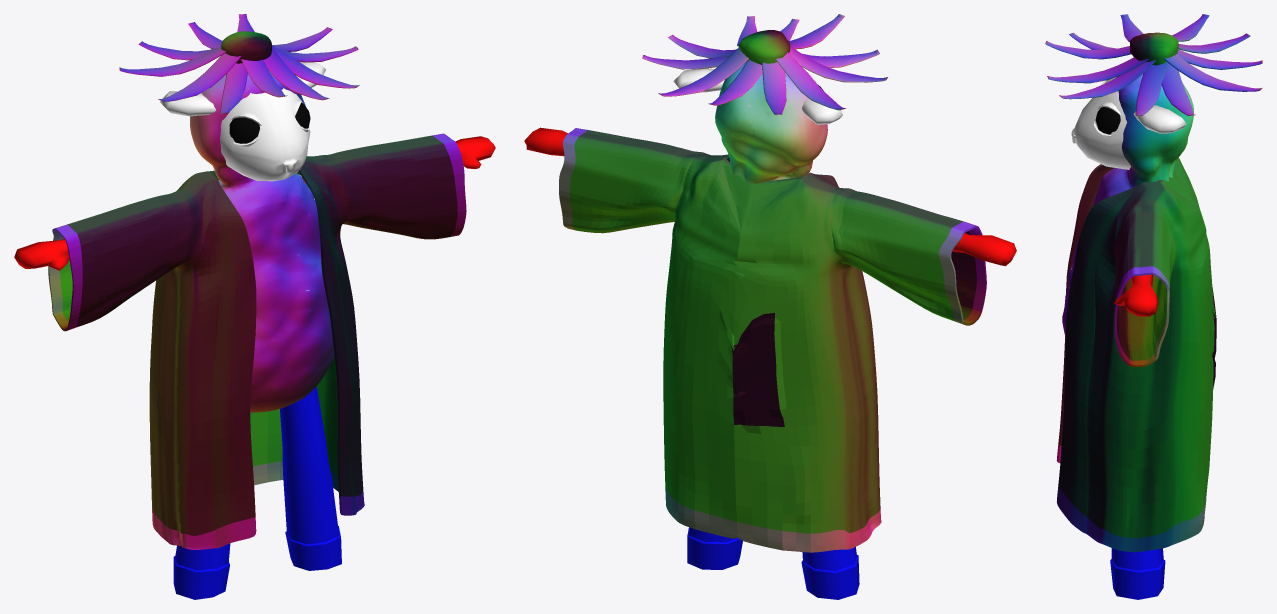
Rendered from GreenSheep (1).fbx.
The picture shows the model from 3 angles, left to right: view 1: azimuth 30°, elevation 25°; view 2: azimuth 150°, elevation 25°; view 3: azimuth 270°, elevation 25°; orthographic projection. The views are drawn at different scales.
Visible parts, largest first — view 1: robes.003, Mball.003, Arms & Legs.003, Head.003, Hat centre, Ears.003, Petal.009, Petal.002, Eyeballs.003, Petal.008, Petal, Petal.001 (+1 smaller); view 2: robes.003, Mball.003, Arms & Legs.003, Hat centre, Ears.003, Petal.008, Petal.007, Petal.006, Petal.009, Petal.005, Petal.010, Petal.003 (+1 smaller); view 3: robes.003, Mball.003, Arms & Legs.003, Head.003, Hat centre, Petal.004, Petal.007, Petal.001, Ears.003, Petal.010, Petal.002, Petal.003 (+5 smaller).
Part boxes in pixels (x1,y1,x2,y2): robes.003: (48,133,466,549); Mball.003: (190,70,334,412); Arms & Legs.003: (14,136,495,599); Head.003: (220,88,310,181); Hat centre: (221,31,271,63); Ears.003: (160,61,325,116); Petal.009: (158,53,241,101); Petal.002: (263,46,329,100); Eyeballs.003: (229,102,310,143); Petal.008: (119,46,225,76); Petal: (219,63,247,113); Petal.001: (272,45,359,88); robes.003: (559,128,986,552); Mball.003: (715,61,827,183); Arms & Legs.003: (524,127,1016,599); Hat centre: (739,30,790,64); Ears.003: (673,68,842,124); Petal.008: (776,52,846,110); Petal.007: (658,47,748,96); Petal.006: (762,62,786,114); Petal.009: (789,46,887,82); Petal.005: (708,59,762,105); Petal.010: (642,55,728,69); Petal.003: (788,14,844,49); robes.003: (1056,157,1216,552); Mball.003: (1062,74,1193,340); Arms & Legs.003: (1110,274,1165,599); Head.003: (1071,77,1130,169); Hat centre: (1130,32,1178,65); Petal.004: (1135,61,1168,115); Petal.007: (1163,54,1262,91); Petal.001: (1059,60,1155,99); Ears.003: (1133,105,1186,133); Petal.010: (1161,63,1195,115); Petal.002: (1047,57,1148,83); Petal.003: (1045,41,1130,59).
Bounding box in the file's own units: 165 × 176 × 66.38.
